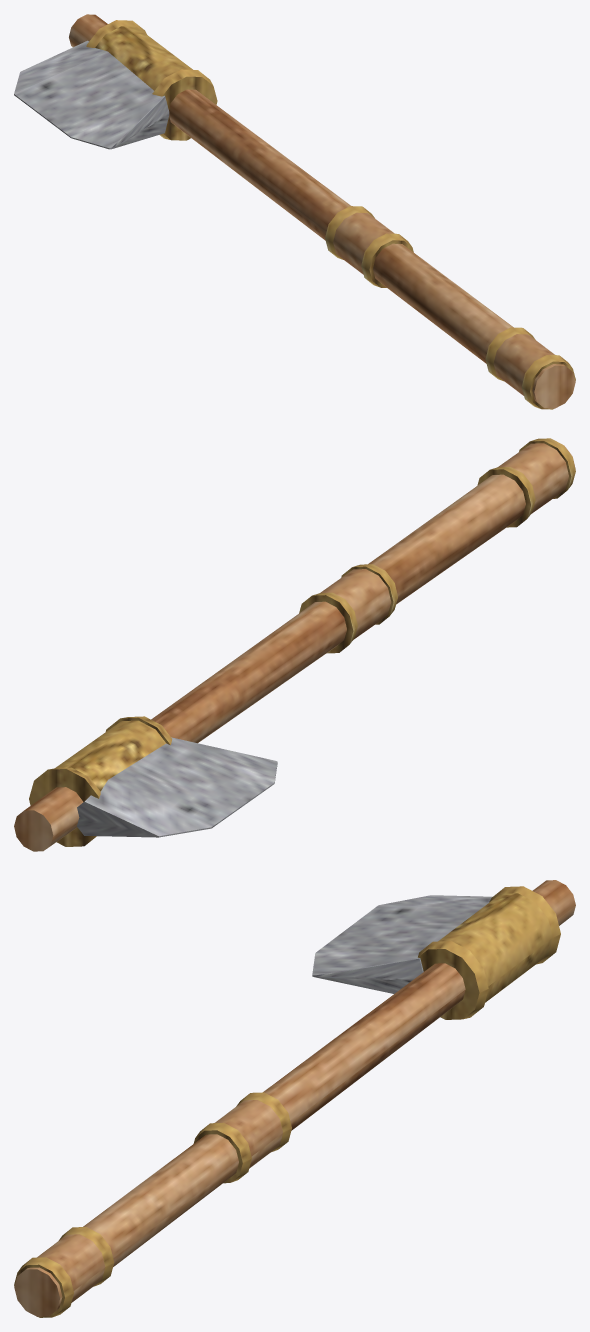
Rendered from item_axe1.glb.
The picture shows the model from 3 angles, top to bottom: view 1: azimuth 30°, elevation 25°; view 2: azimuth 150°, elevation 25°; view 3: azimuth 330°, elevation 25°; orthographic projection. The views are drawn at different scales.
Parts seen in each view (by area): view 1: w02_axe1; view 2: w02_axe1; view 3: w02_axe1.
Boxes of the visible parts, <box> form: w02_axe1: <box>14,14,575,409</box>; w02_axe1: <box>14,438,575,851</box>; w02_axe1: <box>14,880,575,1317</box>.
Size of the model in its own units: 0.1674 by 0.0765 by 0.9055.
1 material, 1 textured.
